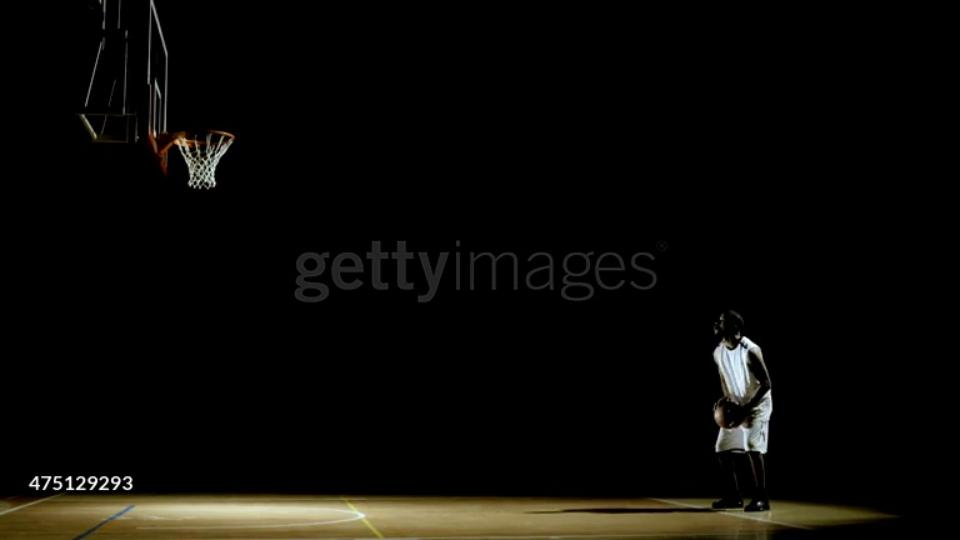hoop: (158, 123, 241, 154)
